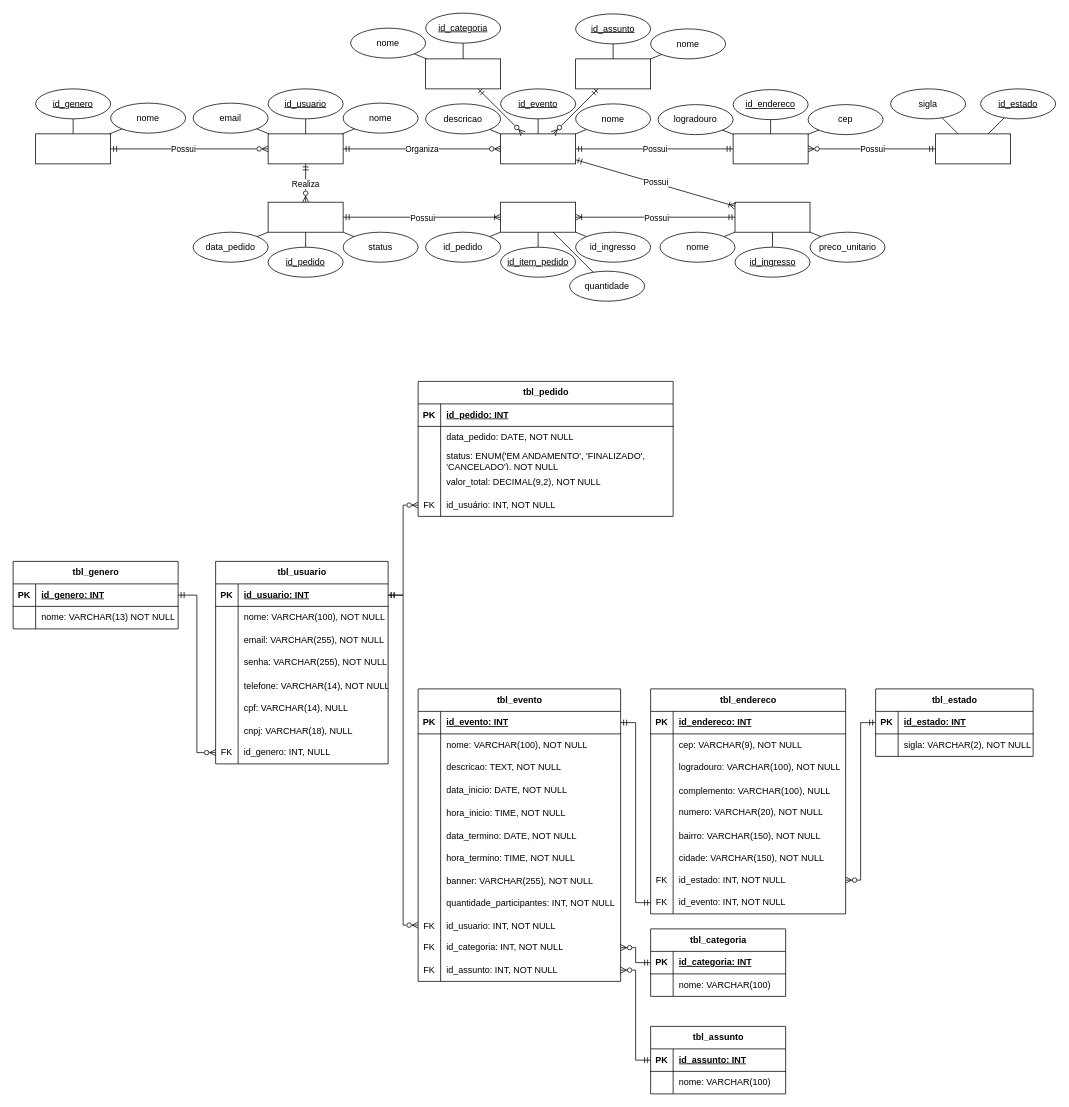
This 1069x1107 diagram has some shape labels left out. The centre of each missing label's shape, as x and y in pixels:
assunto: [613,73]
categoria: [463,73]
endereco: [770,148]
estado: [973,148]
evento: [538,148]
genero: [73,148]
ingresso: [772,216]
item_pedido: [538,216]
pedido: [305,216]
usuario: [305,148]
